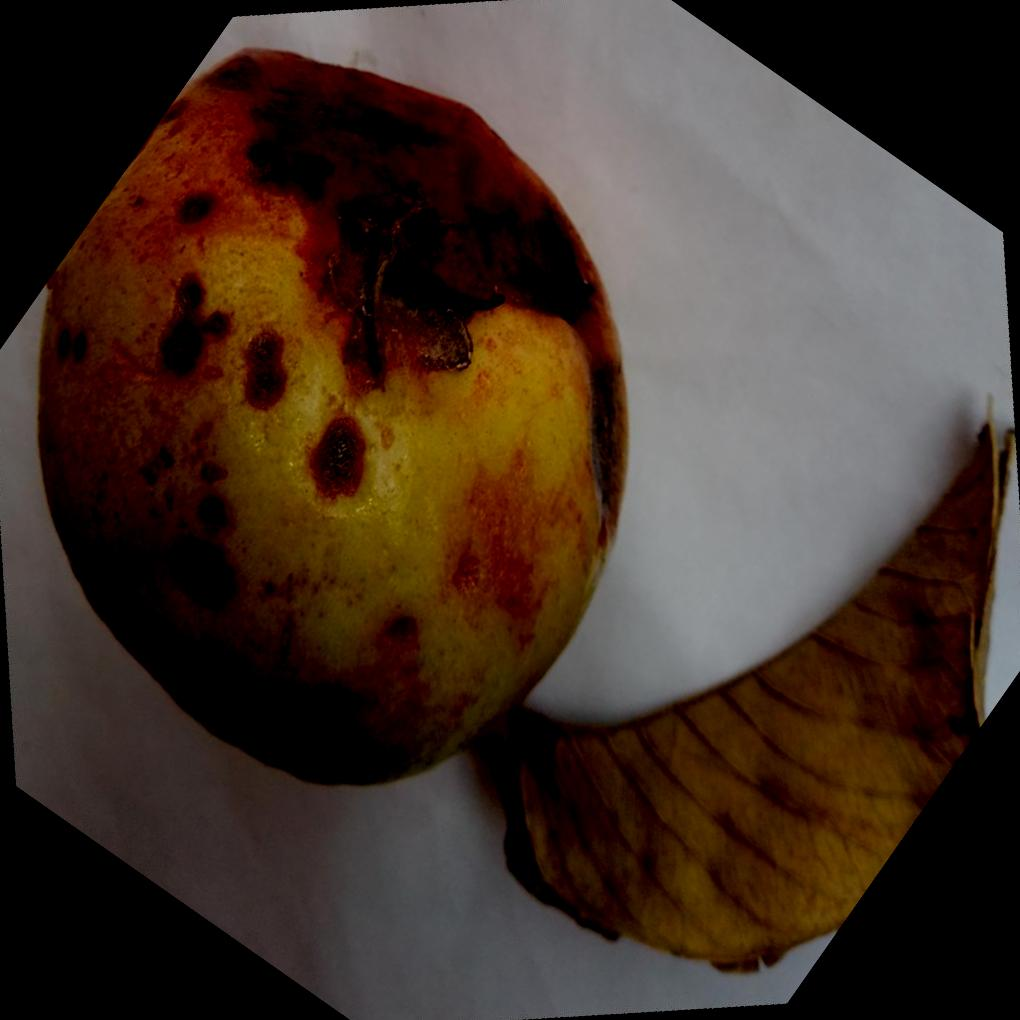FreshOrange: (32, 49, 628, 791)
